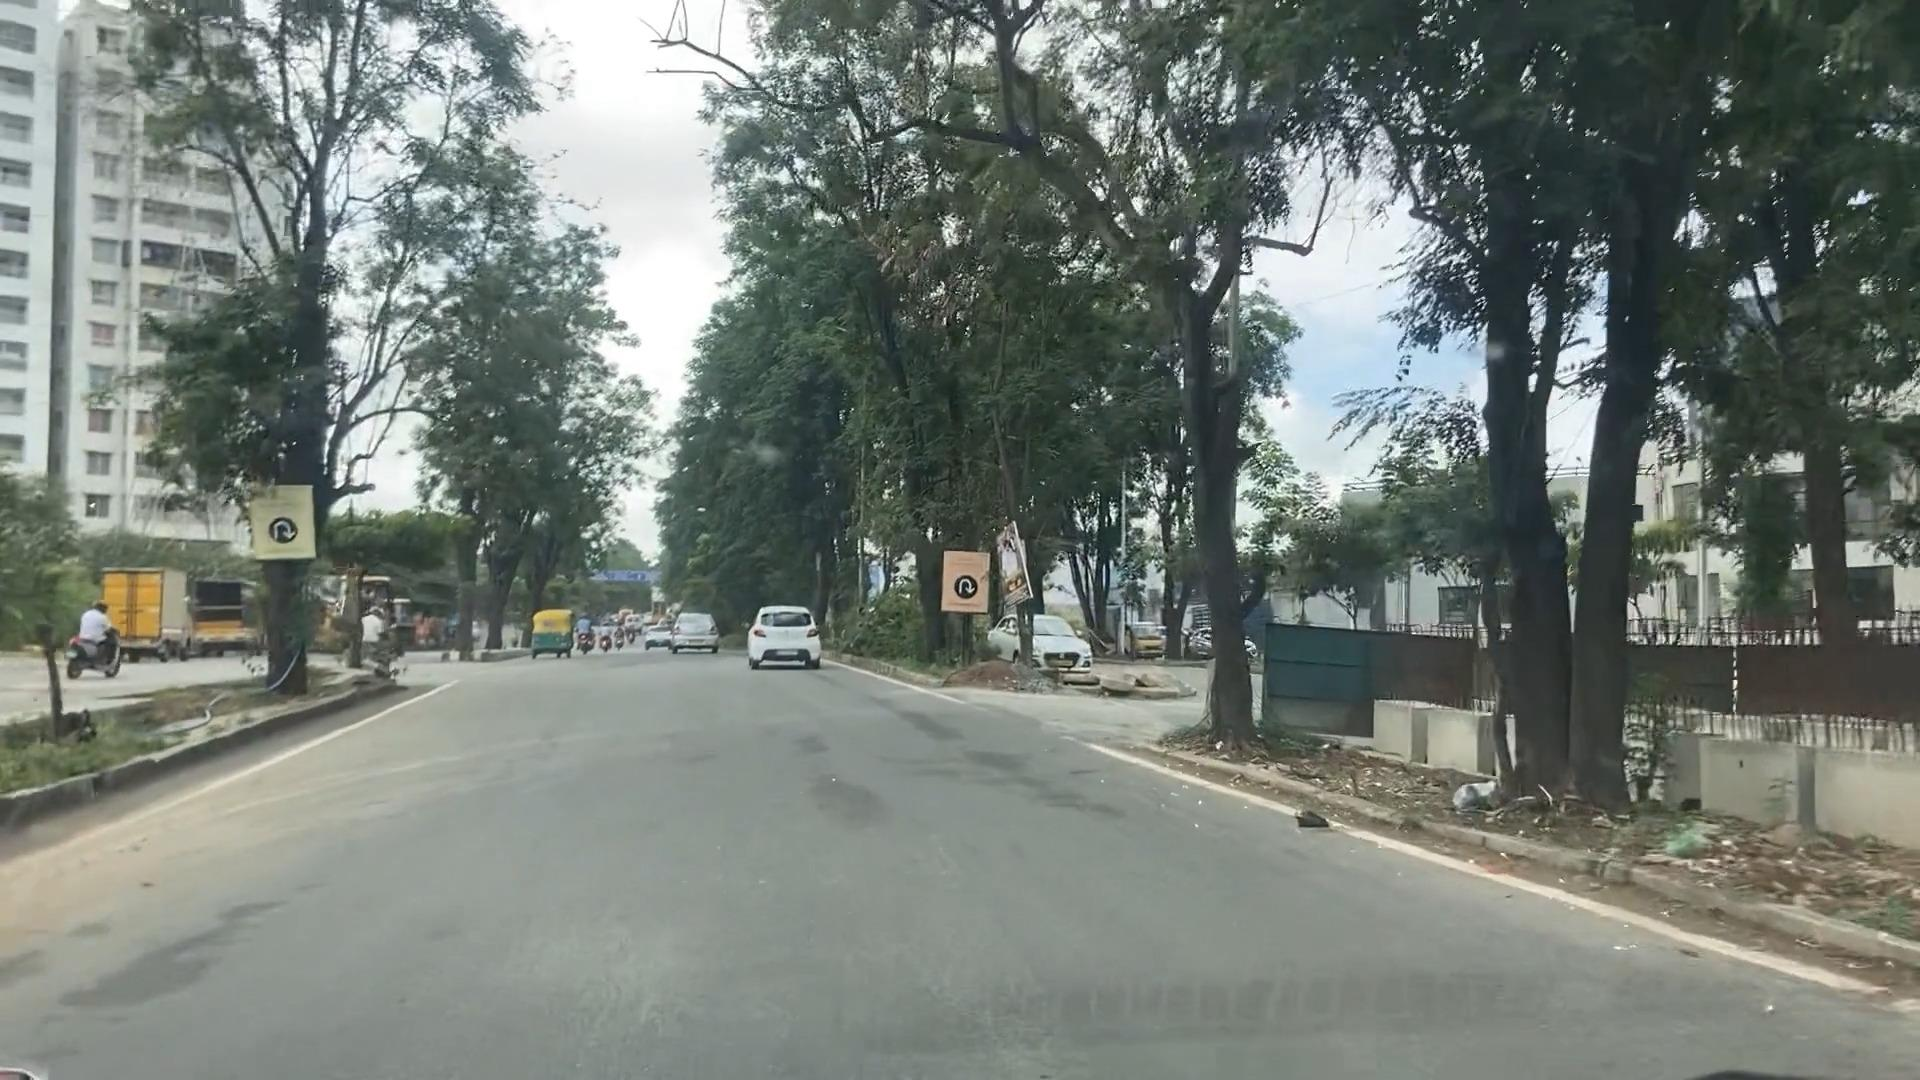LMV: (754, 600, 816, 667), (674, 608, 721, 650), (539, 611, 575, 659)
RoadDamages: (108, 930, 320, 1035), (988, 746, 1104, 827), (798, 758, 895, 847), (872, 692, 961, 740)
